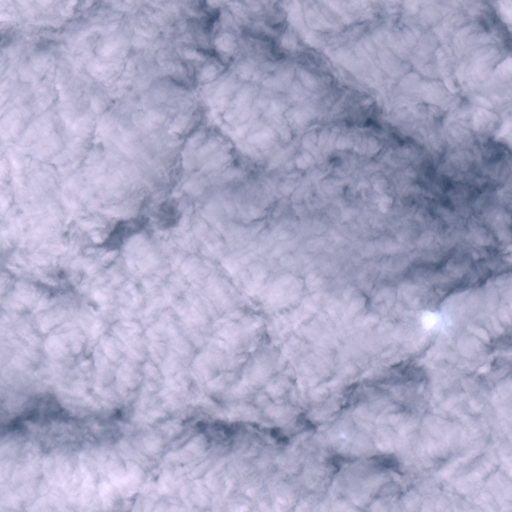Iceberg: (423, 311, 436, 329)
